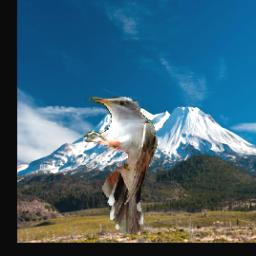Cuckoo: (83, 97, 158, 235)
